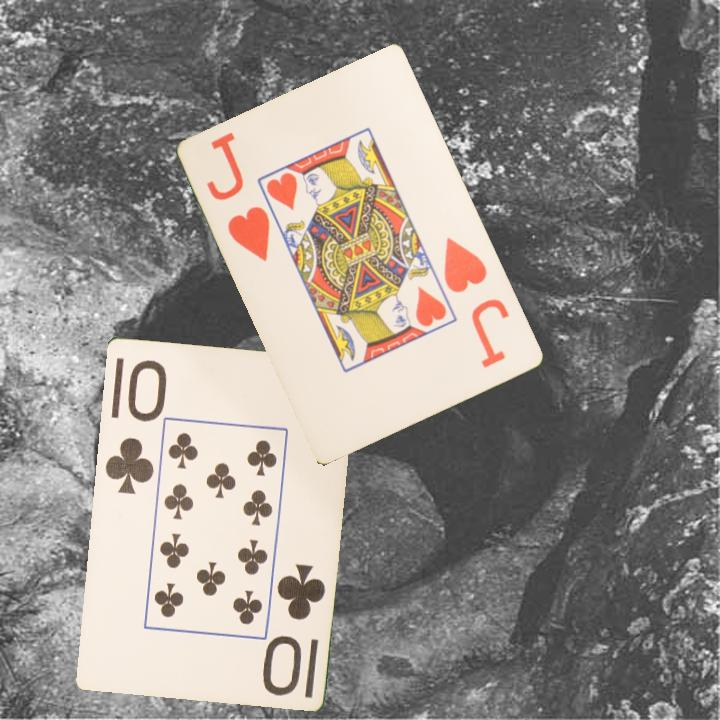10c: (101, 356, 166, 496), (263, 560, 328, 699)
Jh: (440, 233, 513, 371), (224, 202, 274, 265)
